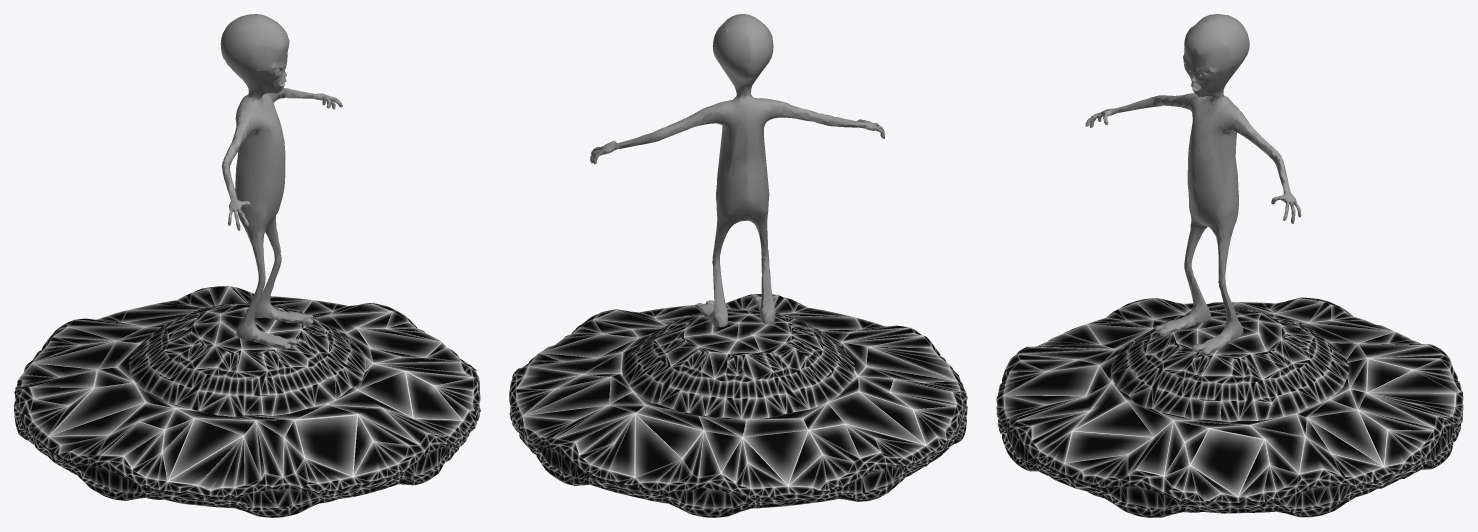
File: frame_098.obj
The picture shows the model from 3 angles, left to right: view 1: azimuth 30°, elevation 25°; view 2: azimuth 150°, elevation 25°; view 3: azimuth 270°, elevation 25°; orthographic projection. The views are drawn at different scales.
Visible parts, largest first — view 1: 13884_UFO_Saucer_v1_l2, 10469_GrayAlien_v01; view 2: 13884_UFO_Saucer_v1_l2, 10469_GrayAlien_v01; view 3: 13884_UFO_Saucer_v1_l2, 10469_GrayAlien_v01.
Part boxes in pixels (x1,y1,x2,y2): 13884_UFO_Saucer_v1_l2: (14,286,480,517); 10469_GrayAlien_v01: (220,14,342,349); 13884_UFO_Saucer_v1_l2: (509,294,967,517); 10469_GrayAlien_v01: (590,14,884,327); 13884_UFO_Saucer_v1_l2: (996,297,1463,517); 10469_GrayAlien_v01: (1085,14,1301,354).
Size of the model in its own units: 12.69 by 14.09 by 12.7.
